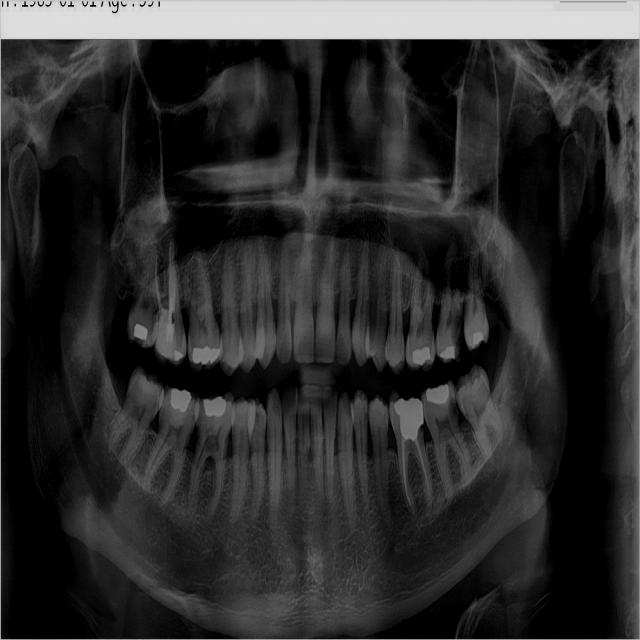Caries: (449, 304, 463, 360), (203, 428, 220, 453), (448, 392, 457, 418), (420, 424, 423, 432)
Filling: (154, 307, 186, 364), (394, 398, 424, 441), (193, 344, 221, 363), (170, 388, 191, 412), (426, 384, 449, 404), (203, 397, 226, 417), (412, 346, 430, 365), (441, 346, 456, 360), (135, 324, 148, 340), (473, 332, 483, 343)
Root Canal Treatment: (415, 438, 430, 499), (401, 438, 412, 507), (168, 242, 175, 316), (154, 254, 163, 309)
